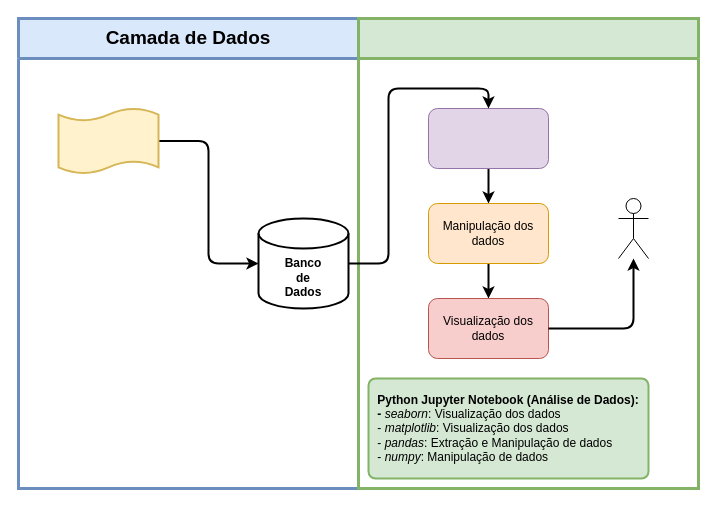
Image size: 717x507. Some labels were removed from this diagram. The box of each missing label's shape, as (x1, y1, x2, y2) in pixels:
Camada de Análise: (356, 16, 700, 490)
Extração dos dados do Banco de Dados: (428, 108, 548, 168)
MapBiomas: (57, 107, 159, 174)
